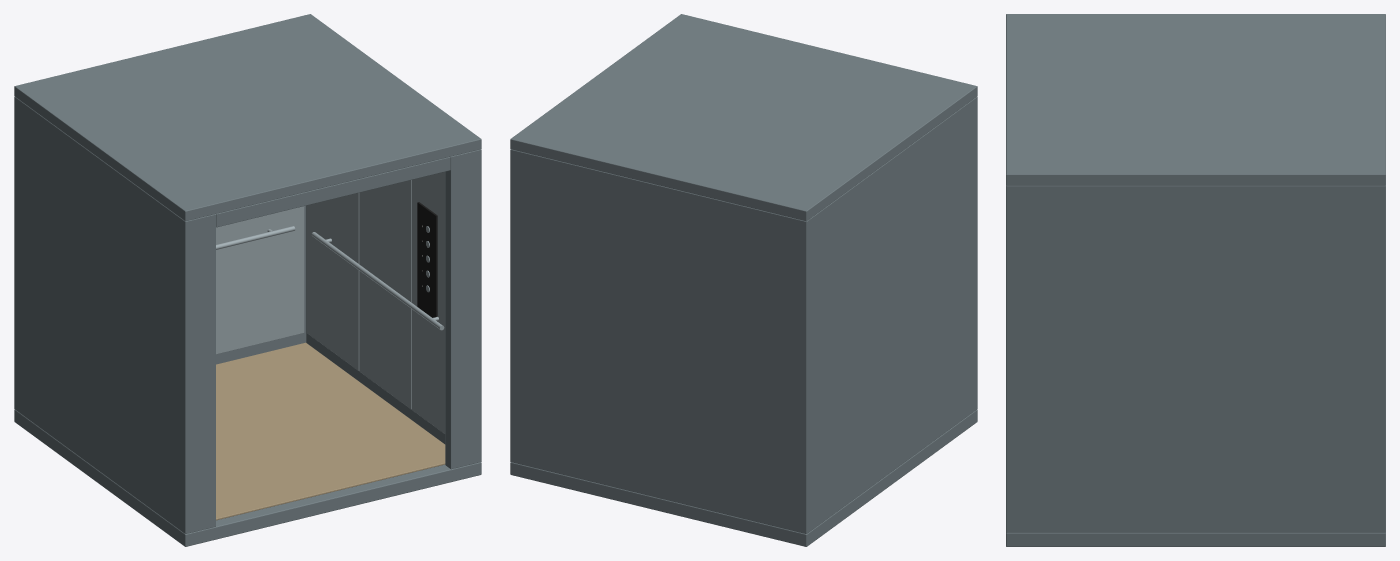
Rendered from OAA_Lift_Cabin_240.fbx.
3 views of the same model, side by side, from view 1: azimuth 30°, elevation 25°; view 2: azimuth 150°, elevation 25°; view 3: azimuth 270°, elevation 25° (orthographic). The views are drawn at different scales.
Parts seen in each view (by area): view 1: Body; view 2: Body; view 3: Body.
Boxes of the visible parts, <box> form: Body: <box>14,14,481,546</box>; Body: <box>510,14,977,546</box>; Body: <box>1006,14,1385,546</box>.
Size of the model in its own units: 2.4 by 2.6 by 2.4.
